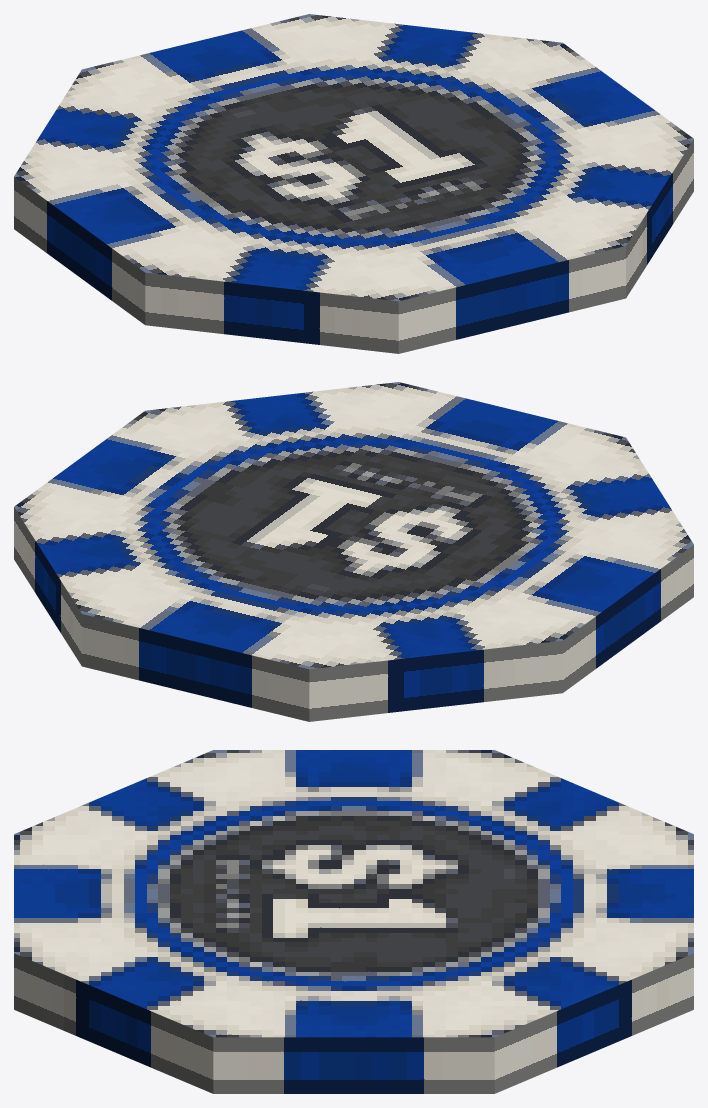
The model's file is chip_1.glb.
The picture shows the model from 3 angles, top to bottom: view 1: azimuth 30°, elevation 25°; view 2: azimuth 150°, elevation 25°; view 3: azimuth 270°, elevation 25°; orthographic projection. The views are drawn at different scales.
Visible parts, largest first — view 1: chip_1; view 2: chip_1; view 3: chip_1.
Part boxes in pixels (bbox=[...]): chip_1: bbox=[14, 14, 693, 353]; chip_1: bbox=[14, 382, 693, 721]; chip_1: bbox=[14, 750, 693, 1093].
Bounding box in the file's own units: 0.036 × 0.0033 × 0.036.
1 material, 1 textured.
